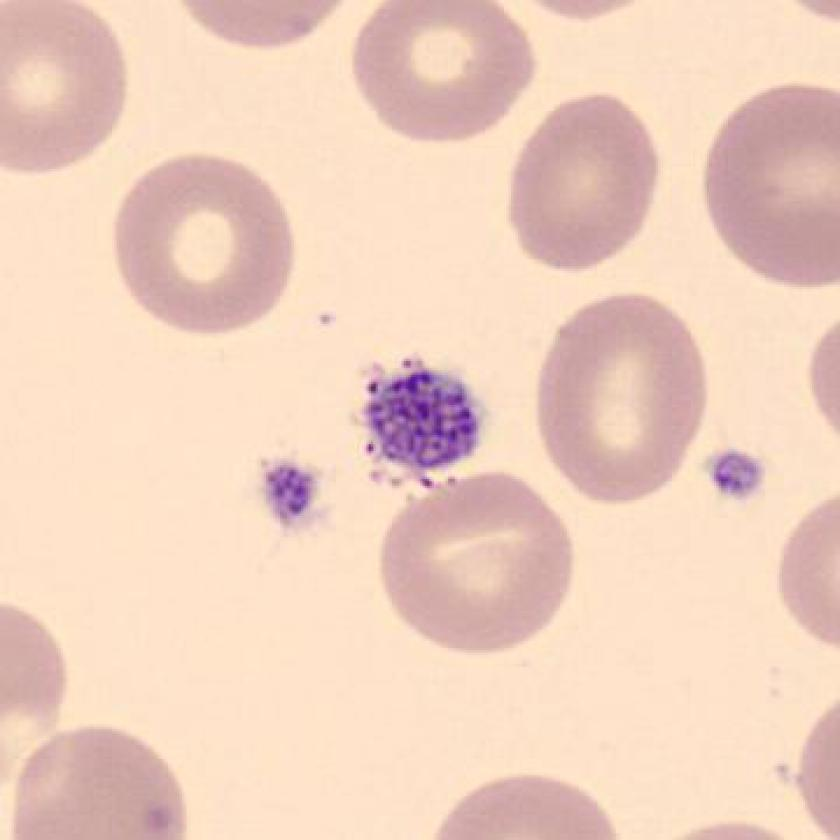platelets: (344, 341, 500, 489), (239, 448, 342, 543), (699, 438, 776, 510)
